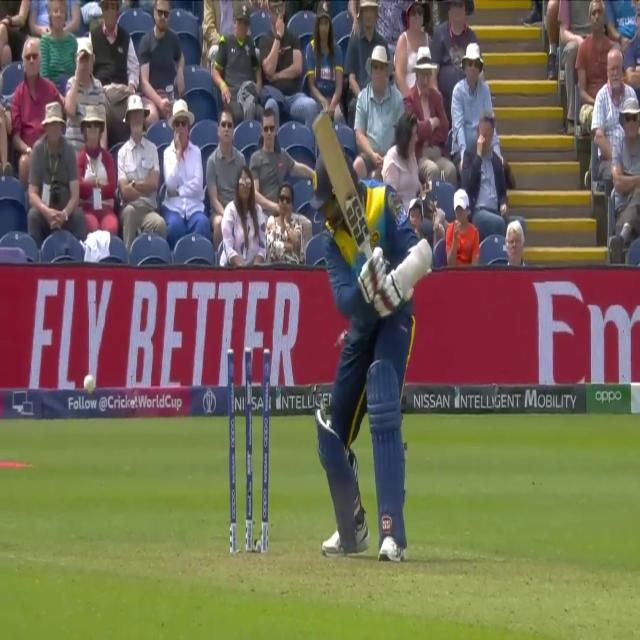ball: (78, 372, 100, 400)
